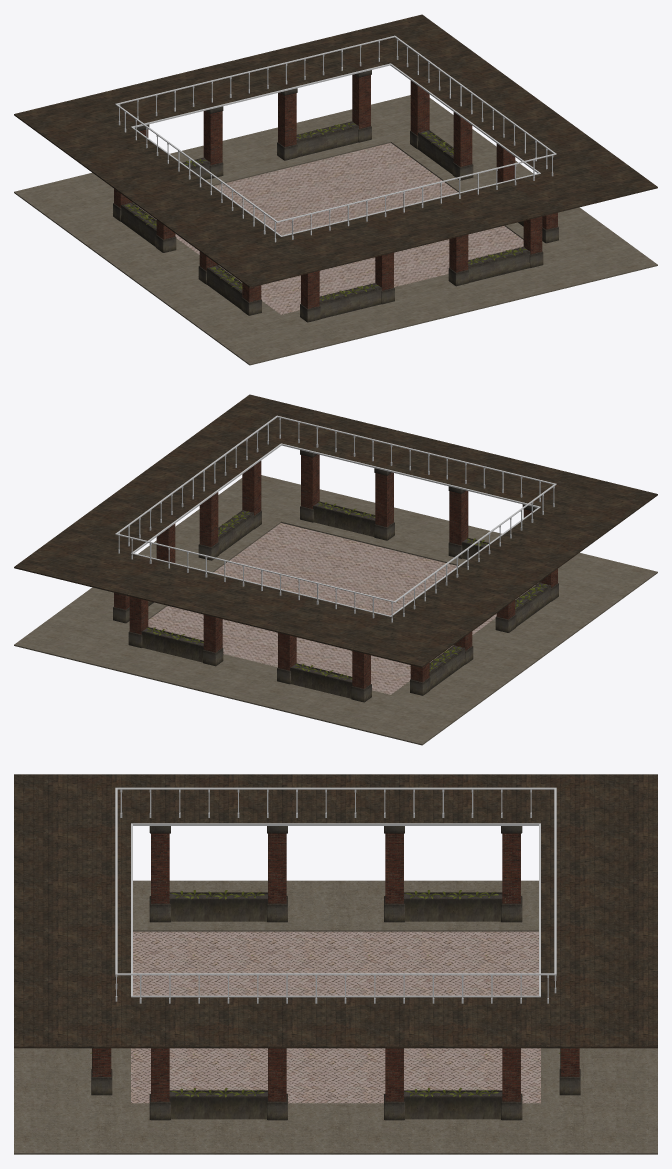
The model's file is courtyard_22m_x_22m.fbx.
3 views of the same model, one above another, from view 1: azimuth 30°, elevation 25°; view 2: azimuth 150°, elevation 25°; view 3: azimuth 270°, elevation 25° (orthographic). The views are drawn at different scales.
Parts seen in each view (by area): view 1: courtyard_22m_x_22m; view 2: courtyard_22m_x_22m; view 3: courtyard_22m_x_22m.
Boxes of the visible parts, <box> form: courtyard_22m_x_22m: <box>14,14,657,365</box>; courtyard_22m_x_22m: <box>14,394,657,745</box>; courtyard_22m_x_22m: <box>14,774,657,1154</box>.
Bounding box in the file's own units: 2200 × 518 × 2200.
